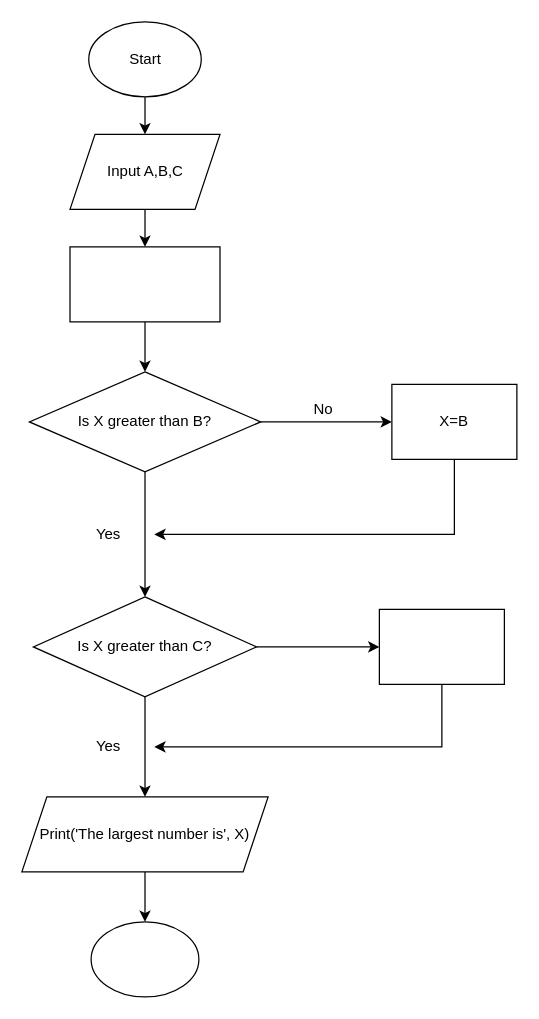
The diagram is 539 pixels wide and 1019 high, and some of its shapes have lost their labels. Each missing label, with the centre of its shape:
"End" belongs at point 144,959.
"X=A" belongs at point 144,284.
"X=C" belongs at point 441,646.
